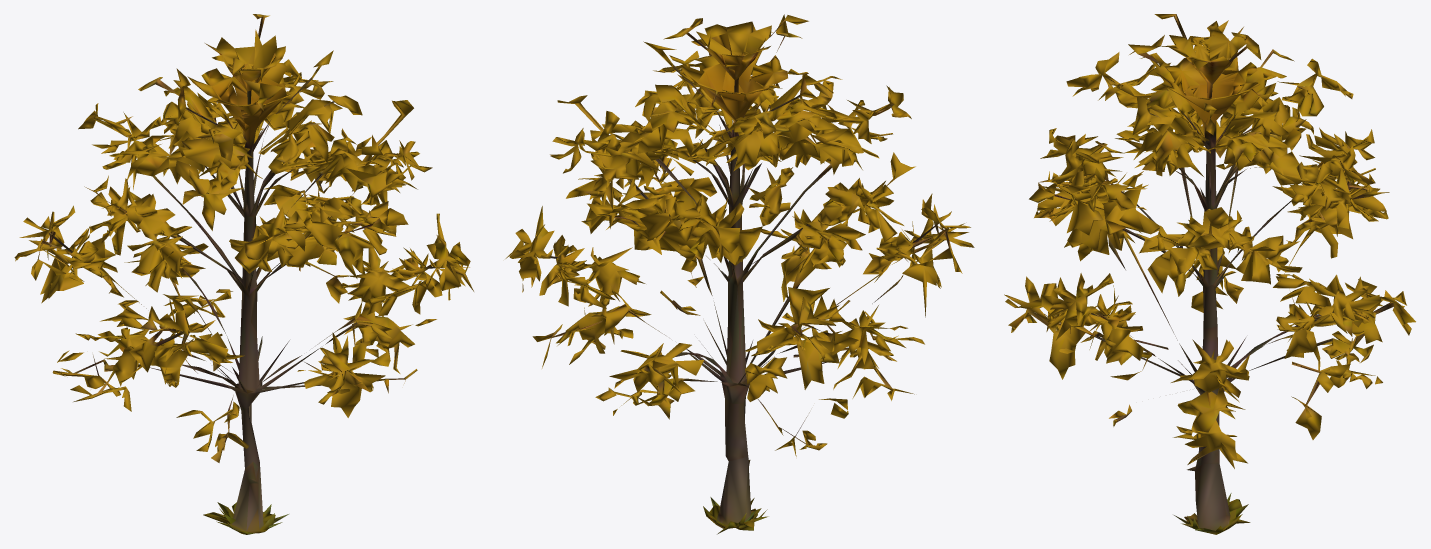
The model's file is yellow.glb.
3 views of the same model, side by side, from view 1: azimuth 30°, elevation 25°; view 2: azimuth 150°, elevation 25°; view 3: azimuth 270°, elevation 25° (orthographic).
Visible parts, largest first — view 1: tripo_node_be561e00-8289-45c9-aaac-b61004b8fc62; view 2: tripo_node_be561e00-8289-45c9-aaac-b61004b8fc62; view 3: tripo_node_be561e00-8289-45c9-aaac-b61004b8fc62.
Boxes of the visible parts, bbox=[...] form: tripo_node_be561e00-8289-45c9-aaac-b61004b8fc62: bbox=[14, 14, 473, 534]; tripo_node_be561e00-8289-45c9-aaac-b61004b8fc62: bbox=[505, 14, 974, 534]; tripo_node_be561e00-8289-45c9-aaac-b61004b8fc62: bbox=[1004, 14, 1415, 534].
Bounding box in the file's own units: 0.7331 × 0.9993 × 0.7377.
1 material, 1 textured.
